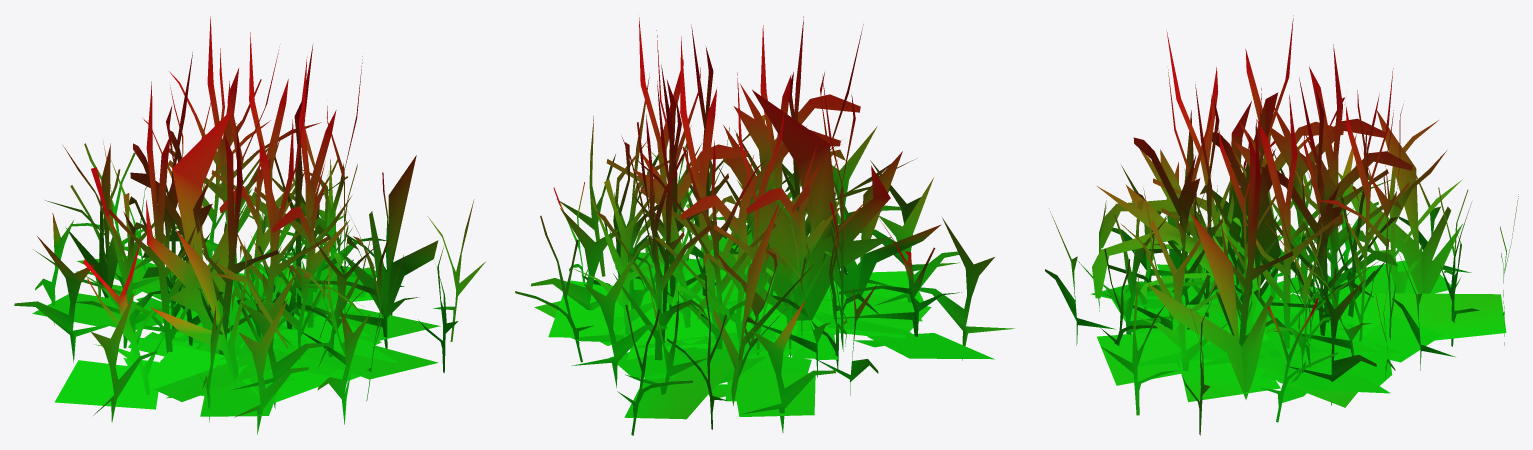
File: Kikuyu Grass_LOD4_Var2_wiljearqx.fbx
3 views of the same model, side by side, from view 1: azimuth 30°, elevation 25°; view 2: azimuth 150°, elevation 25°; view 3: azimuth 270°, elevation 25° (orthographic). The views are drawn at different scales.
Visible parts, largest first — view 1: _feo6_Var2_LOD4; view 2: _feo6_Var2_LOD4; view 3: _feo6_Var2_LOD4.
Boxes of the visible parts, x1,y1,x2,y2 form: _feo6_Var2_LOD4: (14, 16, 485, 434); _feo6_Var2_LOD4: (515, 16, 1014, 435); _feo6_Var2_LOD4: (1045, 15, 1518, 435).
Size of the model in its own units: 83.2 by 55.19 by 79.08.
